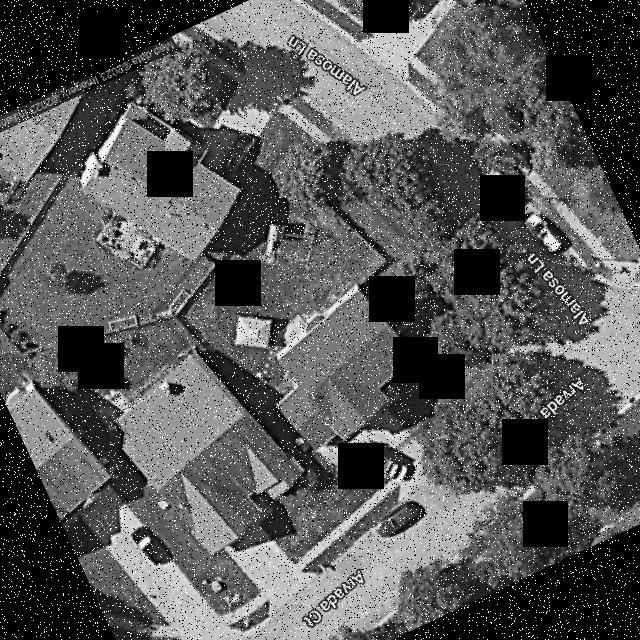Driveway: (318, 381, 410, 482)
Extra Driveway: (365, 438, 450, 503)
Extra Lawn: (296, 127, 513, 450), (308, 108, 536, 345), (430, 354, 535, 460), (349, 485, 400, 539), (331, 477, 392, 522)
Extra Sidewalk: (301, 118, 523, 345), (424, 356, 524, 458), (342, 479, 398, 529)
House: (277, 286, 416, 449)
Other: (259, 218, 317, 264), (278, 311, 324, 346), (235, 316, 272, 348), (369, 300, 386, 316)
